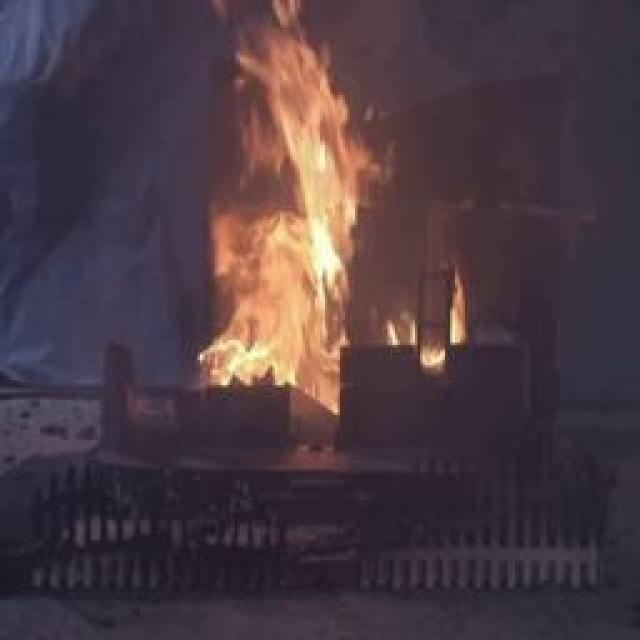fire: (186, 5, 442, 407)
